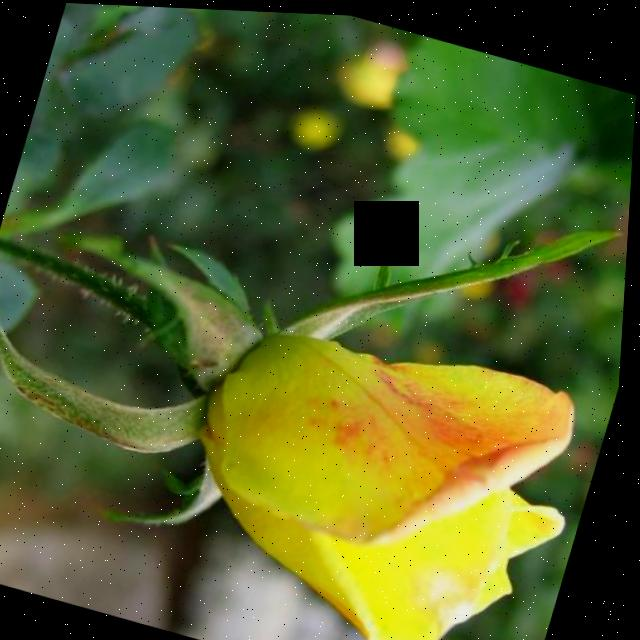rose: (86, 216, 630, 640)
